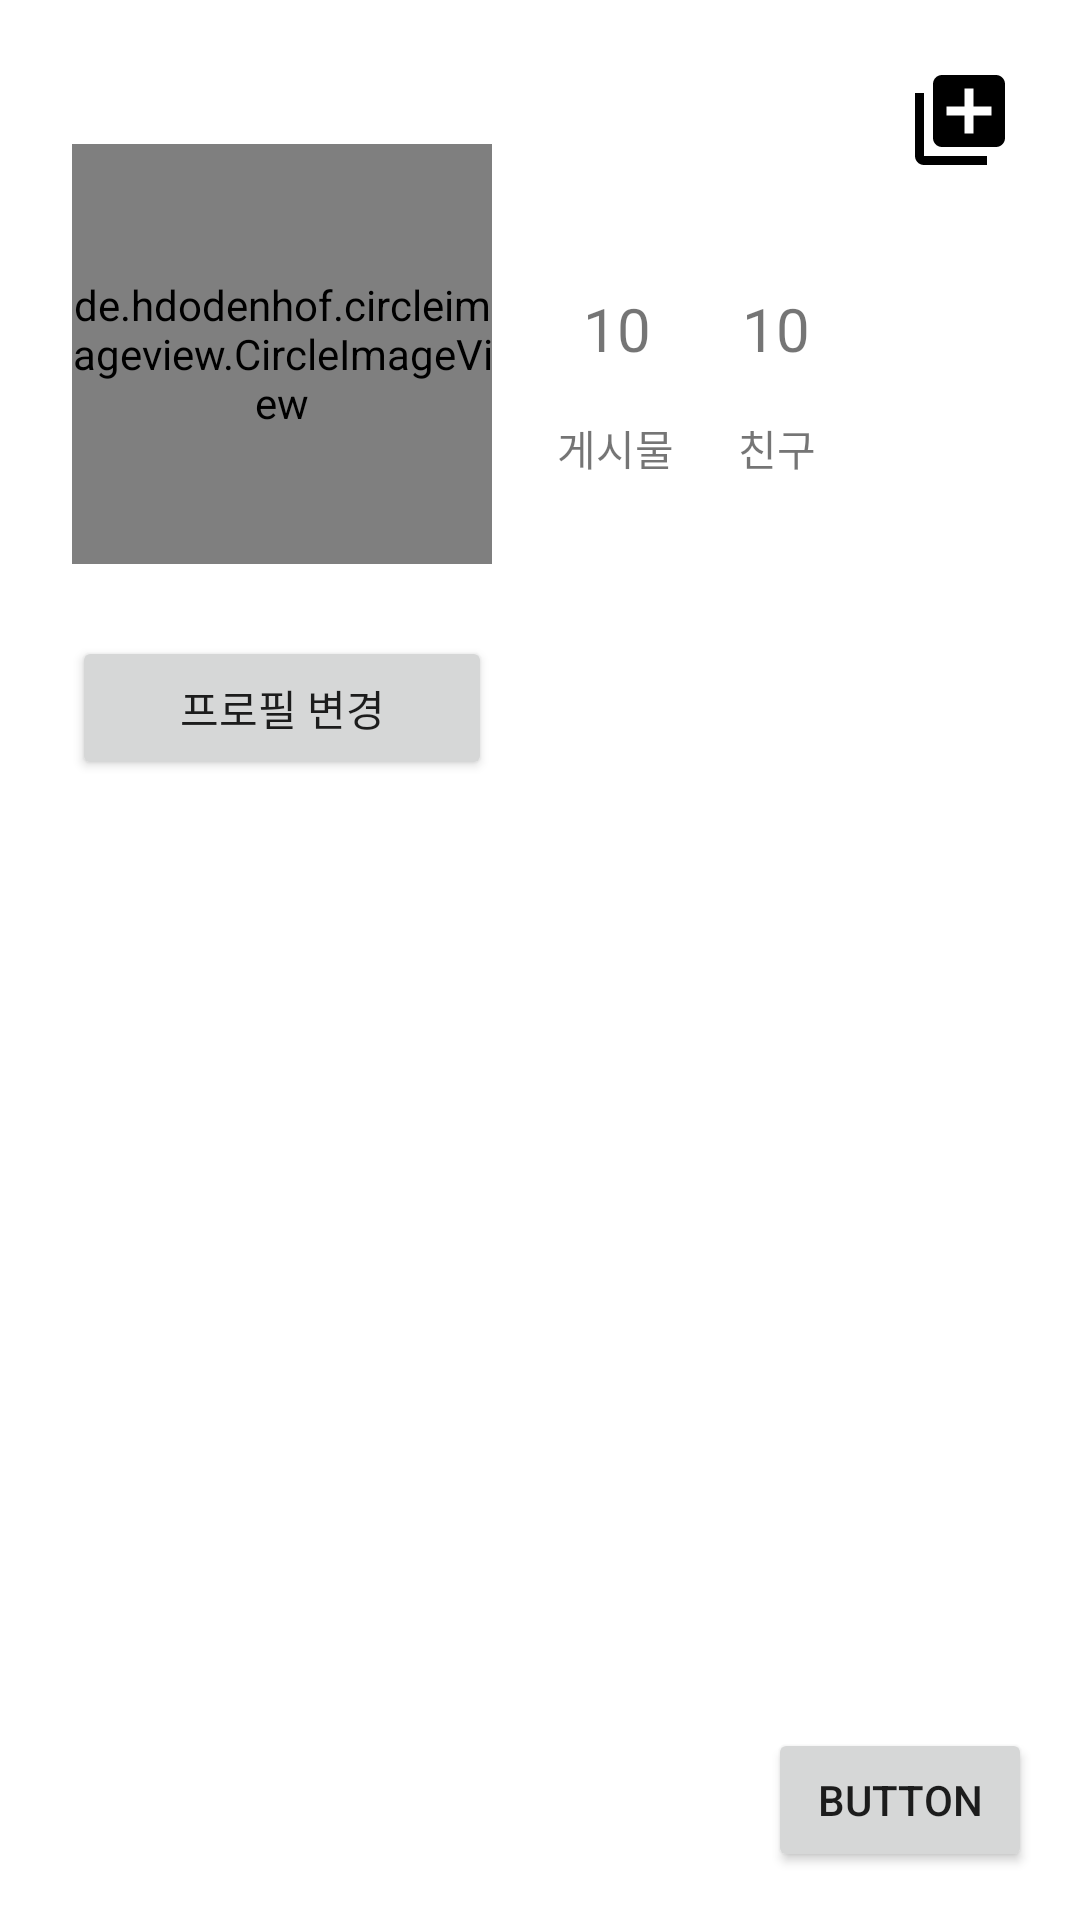

Where to tap for icons on this 1080*1920 app screen, as [x,y]:
setting plusbutton: [960,120]
